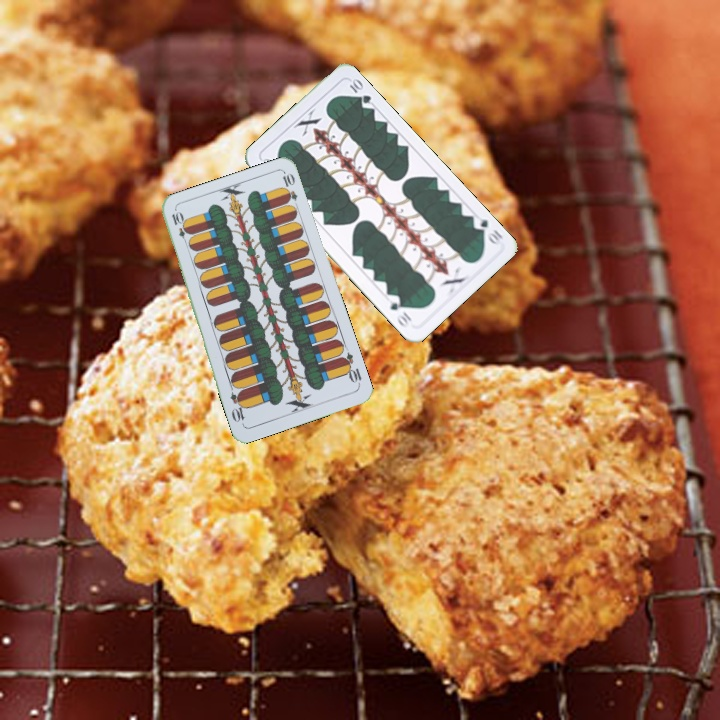E10: (337, 349, 364, 388), (167, 208, 191, 248)
G10: (469, 215, 505, 247)
